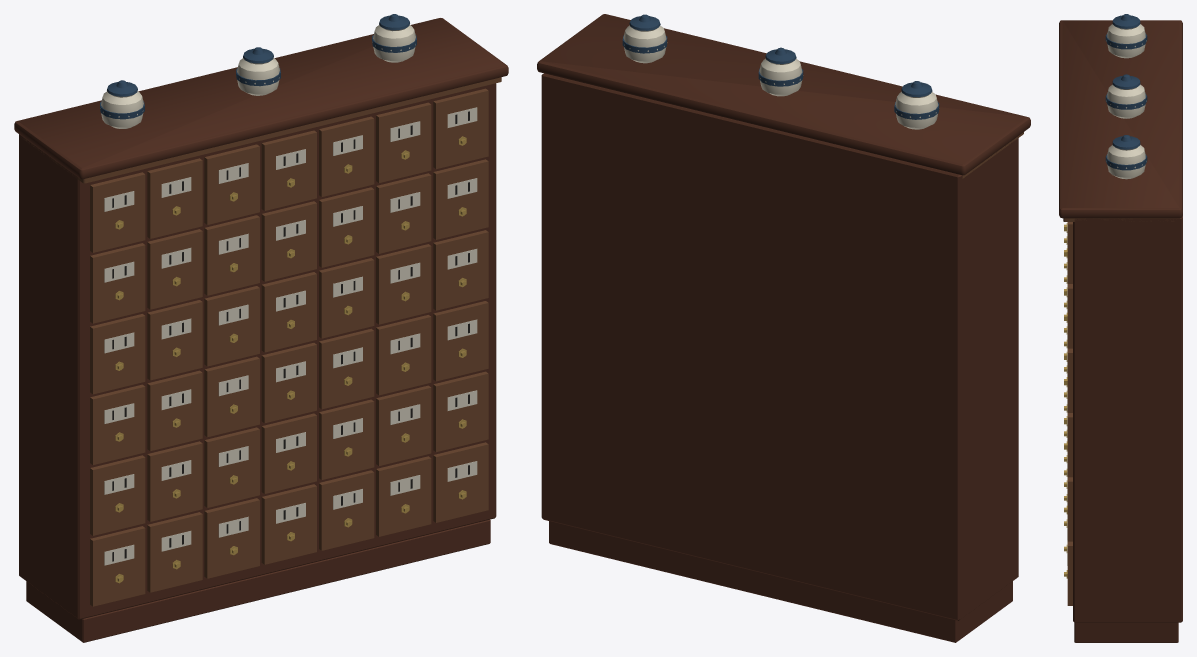
File: acu-herb-cabinet.glb
3 views of the same model, side by side, from view 1: azimuth 30°, elevation 25°; view 2: azimuth 150°, elevation 25°; view 3: azimuth 270°, elevation 25° (orthographic). The views are drawn at different scales.
Parts seen in each view (by area): view 1: acu-herb-cabinet; view 2: acu-herb-cabinet; view 3: acu-herb-cabinet.
Boxes of the visible parts, <box> form: acu-herb-cabinet: <box>14,14,508,642</box>; acu-herb-cabinet: <box>537,14,1030,642</box>; acu-herb-cabinet: <box>1059,14,1182,642</box>.
Size of the model in its own units: 1.64 by 1.92 by 0.45.
